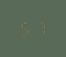five: (19, 19, 31, 36)
seven: (32, 19, 44, 37)
